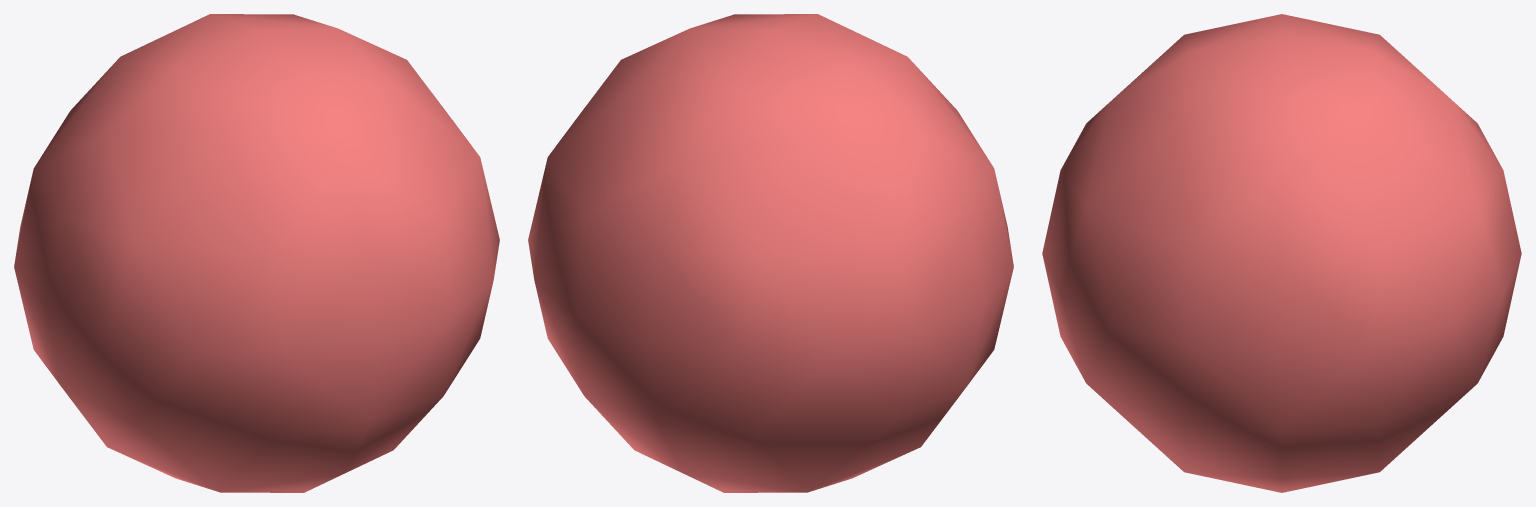
File: quantized-1node.glb
The picture shows the model from 3 angles, left to right: view 1: azimuth 30°, elevation 25°; view 2: azimuth 150°, elevation 25°; view 3: azimuth 270°, elevation 25°; orthographic projection. The views are drawn at different scales.
Visible parts, largest first — view 1: Vessel mesh; view 2: Vessel mesh; view 3: Vessel mesh.
Part boxes in pixels (left/top/right/bottom): Vessel mesh: left=14, top=14, right=499, bottom=492; Vessel mesh: left=528, top=14, right=1013, bottom=492; Vessel mesh: left=1042, top=14, right=1521, bottom=492.
Size of the model in its own units: 0.06 by 0.06 by 0.06.
